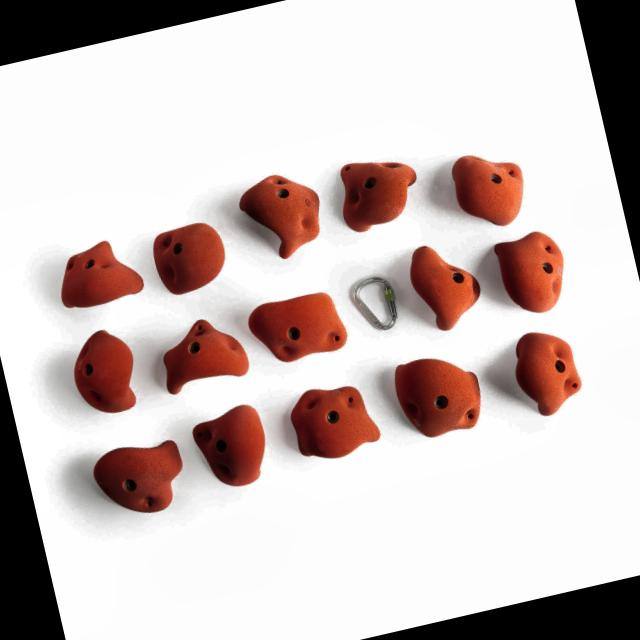Hold: (388, 338, 501, 449), (148, 302, 258, 408), (228, 152, 332, 262), (182, 396, 288, 495), (396, 230, 490, 340), (283, 370, 387, 469), (328, 138, 432, 236), (87, 428, 192, 522), (448, 134, 544, 236), (246, 280, 350, 370), (490, 220, 580, 324), (504, 320, 593, 422), (64, 314, 150, 418), (41, 235, 146, 314), (144, 209, 232, 298)
